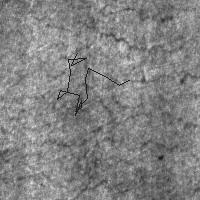crazing: (1, 81, 117, 146), (83, 6, 178, 57), (91, 110, 199, 152), (57, 53, 129, 115), (106, 68, 200, 108)
